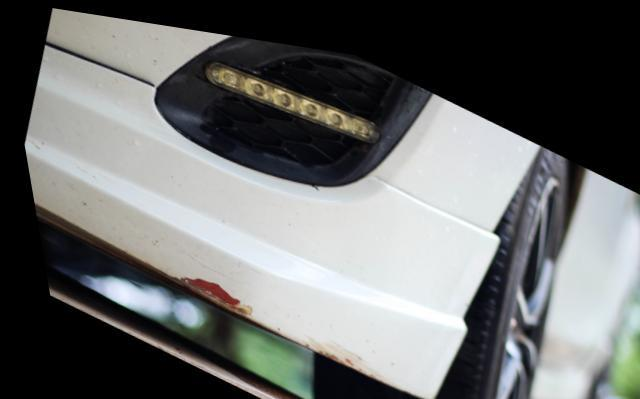scratch: (156, 269, 369, 365)
